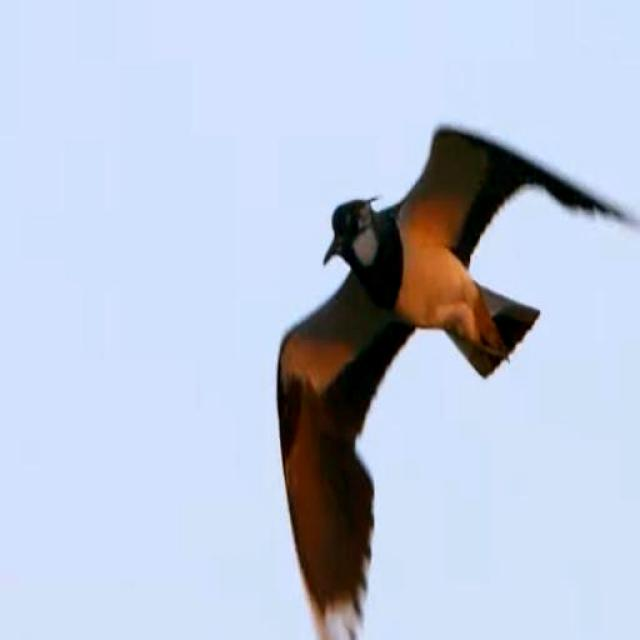airplane: (266, 108, 640, 640)
